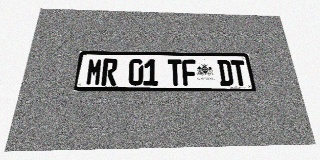0: (128, 59, 143, 86)
1: (143, 59, 158, 86)
D: (217, 60, 234, 86)
F: (182, 59, 197, 86)
M: (85, 58, 103, 86)
R: (101, 58, 118, 86)
T: (230, 60, 248, 86), (168, 59, 183, 86)
